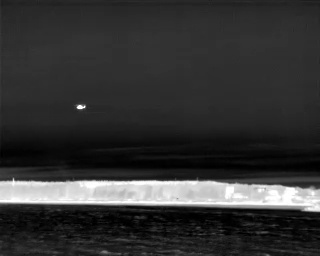HELICOPTER: (72, 100, 90, 116)
